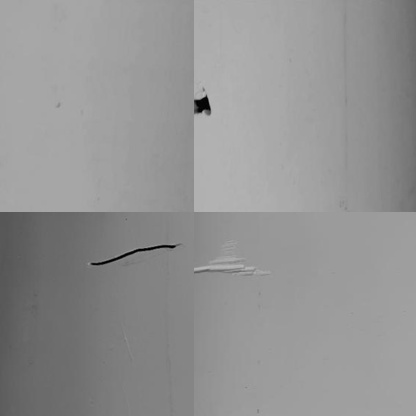fengxi: (90, 242, 179, 267)
kongdong: (193, 94, 215, 115)
sunshang: (197, 237, 265, 281)
